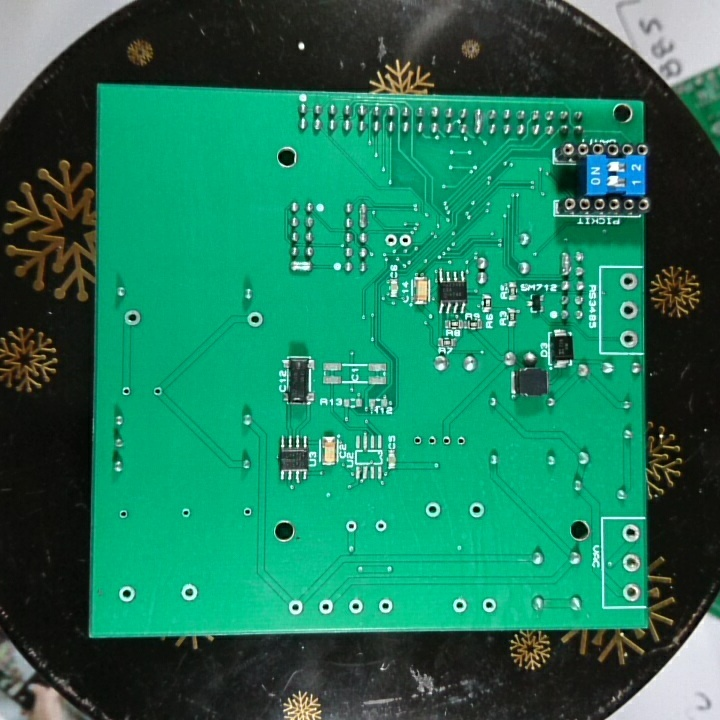F: (619, 522, 642, 545), (620, 552, 643, 575), (619, 581, 642, 604), (116, 583, 139, 606), (178, 581, 202, 603), (617, 328, 639, 351), (618, 298, 639, 322), (121, 308, 145, 329), (244, 310, 267, 331), (467, 499, 487, 523), (618, 271, 639, 293), (345, 597, 365, 618), (316, 596, 335, 618), (423, 498, 442, 520), (479, 595, 498, 616), (451, 595, 470, 616), (285, 598, 305, 617), (377, 596, 394, 617), (397, 231, 413, 251), (372, 518, 390, 535), (382, 231, 398, 250), (343, 518, 359, 536), (115, 506, 131, 523), (455, 432, 468, 452), (119, 383, 134, 400), (149, 383, 164, 400), (239, 504, 254, 520), (179, 505, 192, 521), (412, 432, 424, 449), (439, 434, 452, 449), (426, 434, 439, 449)
P: (471, 105, 485, 138), (288, 258, 314, 275), (357, 200, 370, 231), (559, 248, 571, 278)
